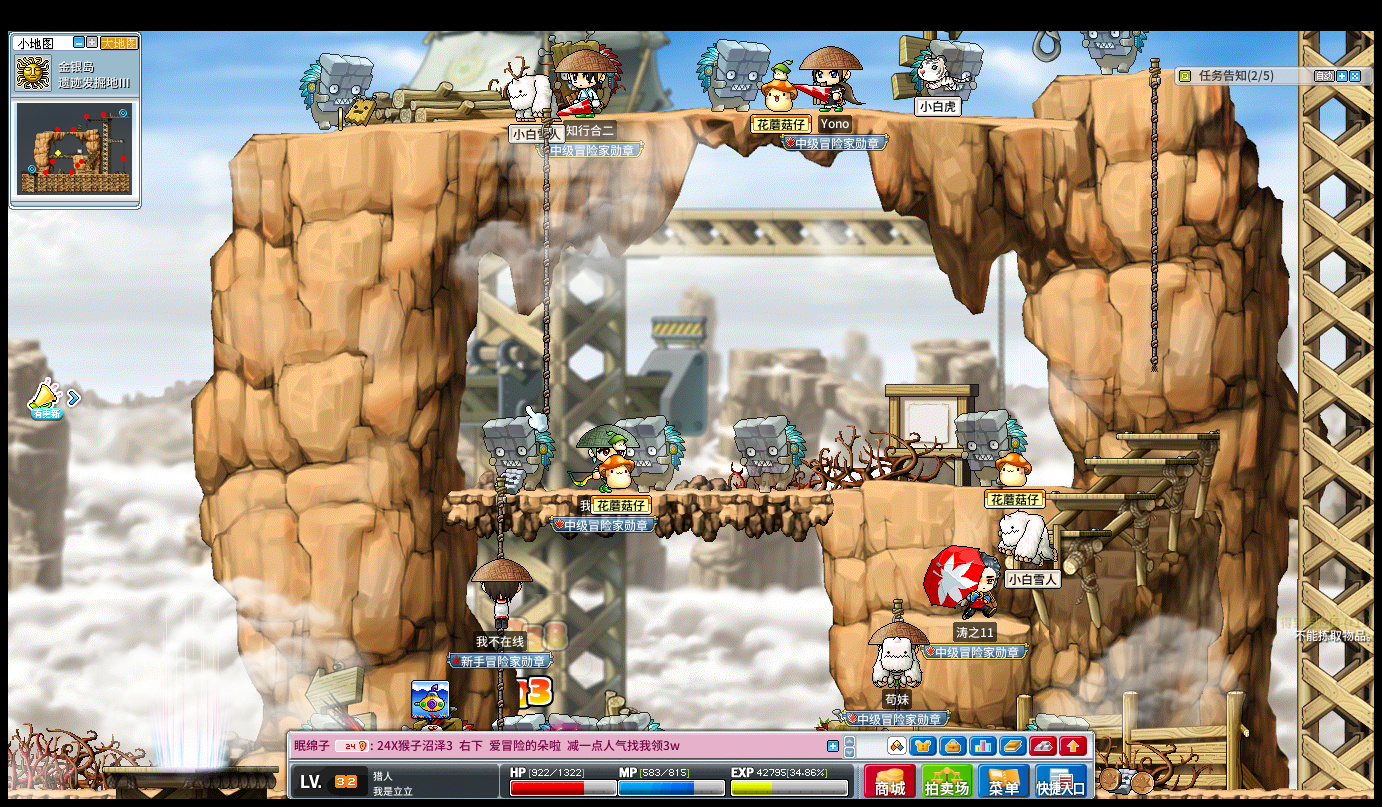floor: (214, 105, 1089, 139), (450, 487, 831, 500), (896, 613, 1033, 629), (874, 481, 1073, 492), (1052, 69, 1164, 82), (1115, 429, 1221, 441), (1077, 456, 1196, 465), (1044, 492, 1157, 500), (1032, 528, 1111, 536)
monster: (481, 413, 557, 493), (297, 52, 374, 130), (733, 415, 807, 491), (695, 37, 768, 111), (957, 408, 1024, 480), (627, 416, 686, 491), (1085, 28, 1144, 75)
rope: (1147, 57, 1161, 375), (538, 113, 550, 419), (492, 482, 506, 559)
